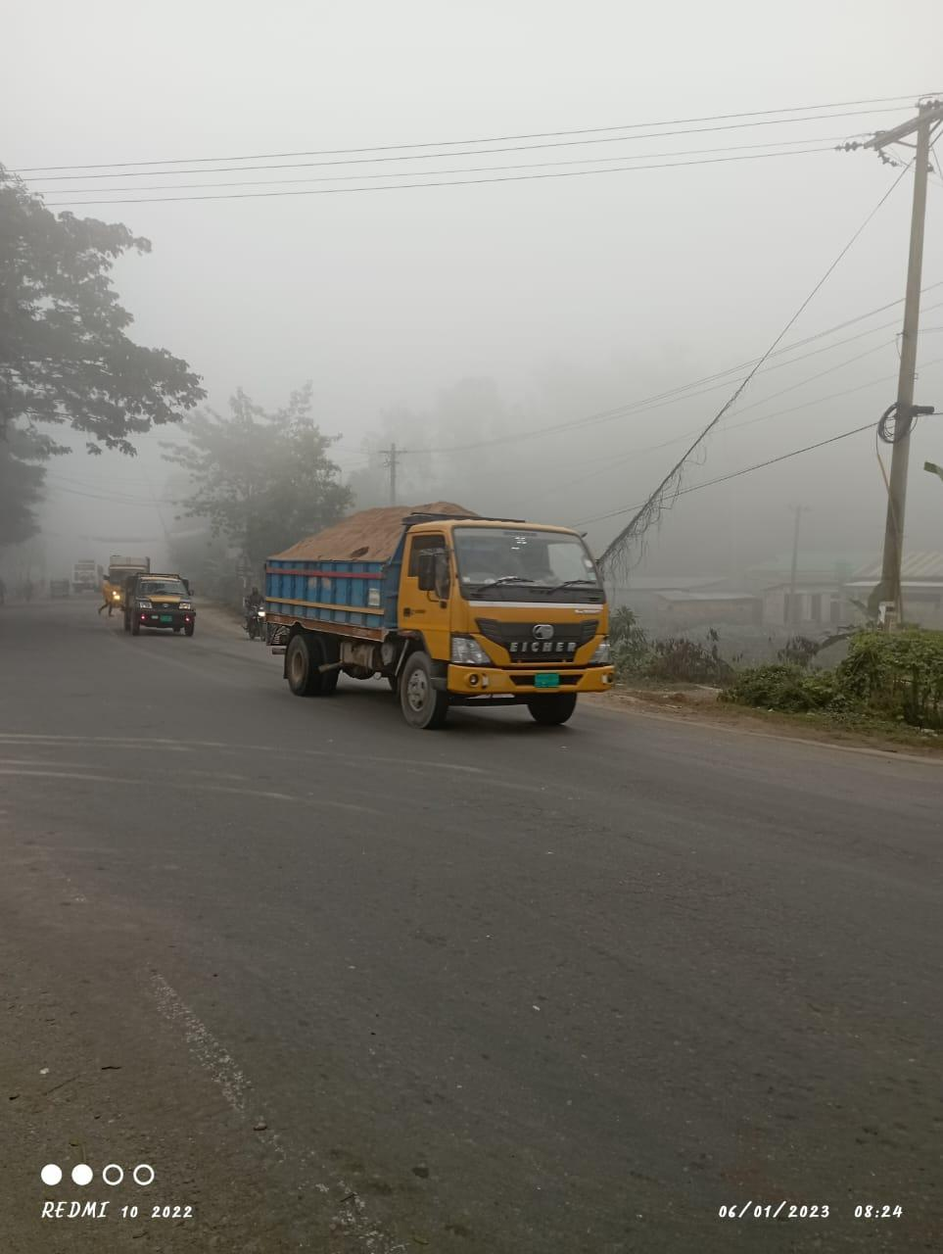Bike: (229, 581, 270, 647)
Truck: (260, 499, 623, 738), (121, 568, 201, 639)
